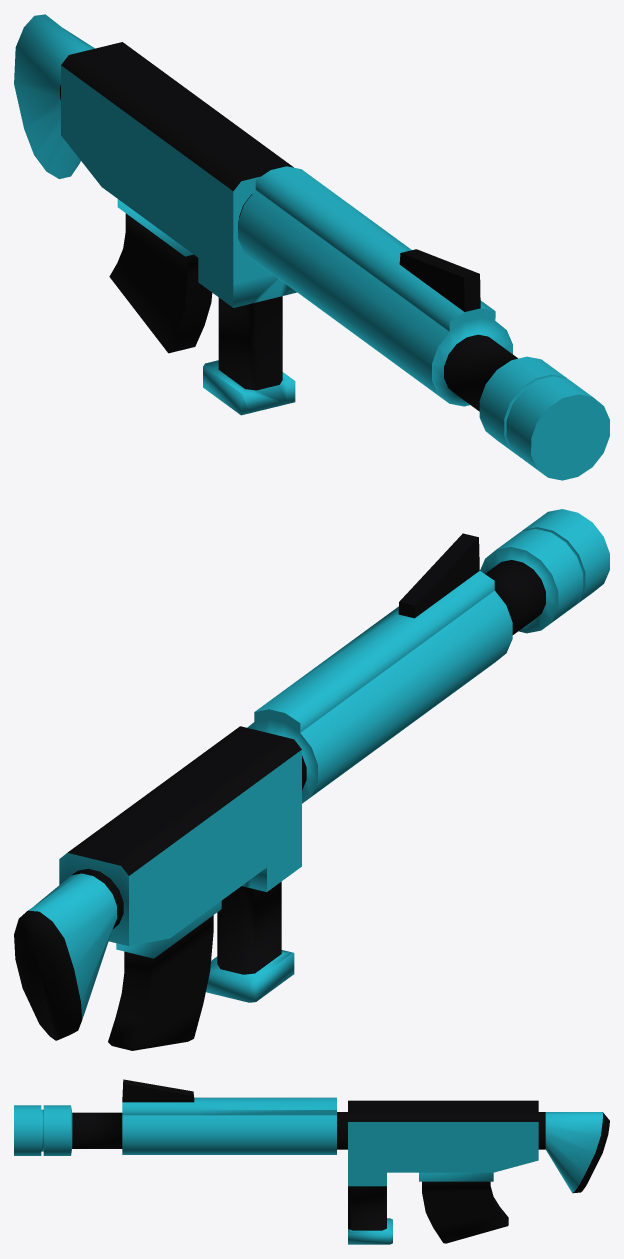
File: rifle.obj
3 views of the same model, one above another, from view 1: azimuth 30°, elevation 25°; view 2: azimuth 150°, elevation 25°; view 3: azimuth 270°, elevation 25° (orthographic). The views are drawn at different scales.
Parts seen in each view (by area): view 1: Cylinder; view 2: Cylinder; view 3: Cylinder.
Boxes of the visible parts, x1,y1,x2,y2 form: Cylinder: (14, 14, 609, 480); Cylinder: (14, 509, 609, 1050); Cylinder: (14, 1079, 609, 1244).
Bounding box in the file's own units: 1.44 × 4.89 × 16.6.
